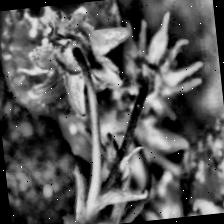Gray Mold: (96, 9, 208, 126)
